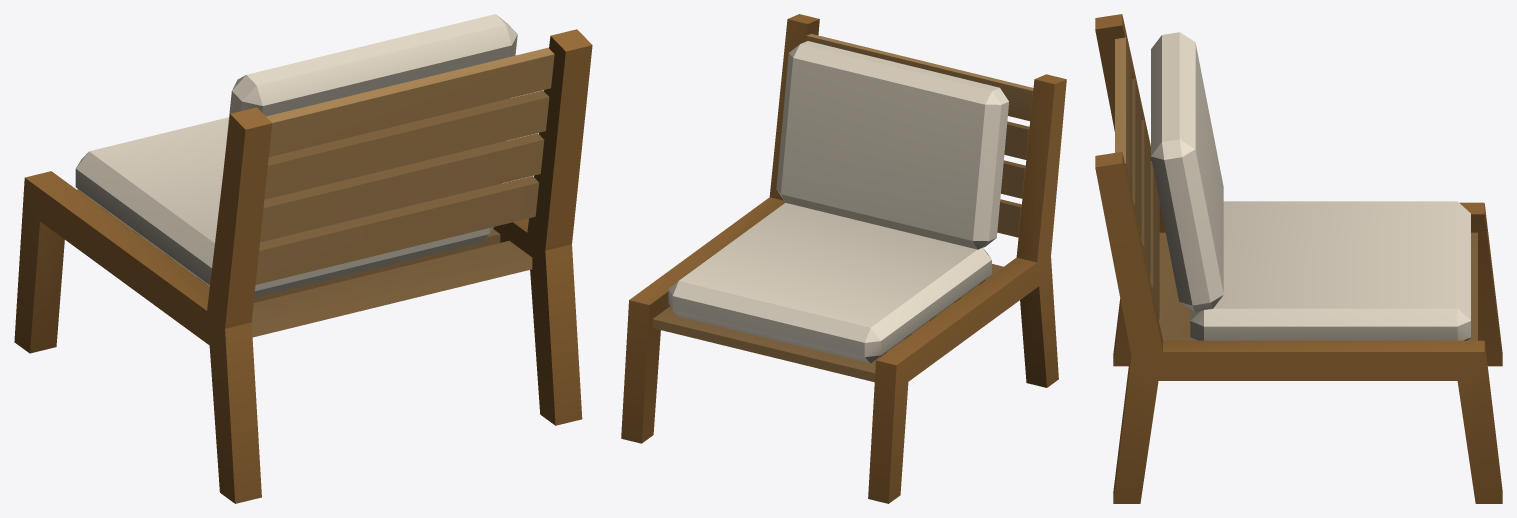
Rendered from terrace_chair_01.glb.
3 renders of one model, left to right at view 1: azimuth 30°, elevation 25°; view 2: azimuth 150°, elevation 25°; view 3: azimuth 270°, elevation 25°, orthographic. The views are drawn at different scales.
Parts seen in each view (by area): view 1: terrace_chair_01_mesh; view 2: terrace_chair_01_mesh; view 3: terrace_chair_01_mesh.
Part boxes in pixels (x1=…): terrace_chair_01_mesh: x1=14, y1=14, x2=592, y2=503; terrace_chair_01_mesh: x1=621, y1=14, x2=1066, y2=503; terrace_chair_01_mesh: x1=1095, y1=14, x2=1502, y2=503.
Size of the model in its own units: 0.78 by 0.837 by 0.9.
1 material, 1 textured.
